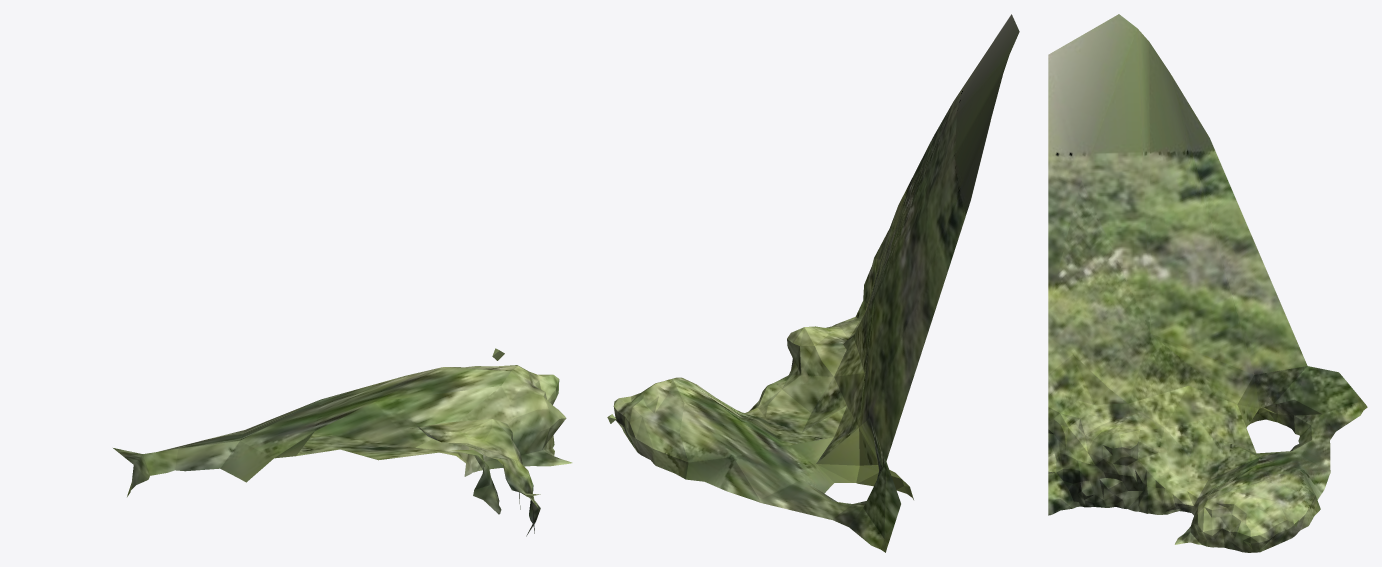
3 renders of one model, left to right at view 1: azimuth 30°, elevation 25°; view 2: azimuth 150°, elevation 25°; view 3: azimuth 270°, elevation 25°, orthographic. The views are drawn at different scales.
Bounding box in the file's own units: 20.93 × 25.32 × 18.64.
Materials: 2 (2 with a texture image).
